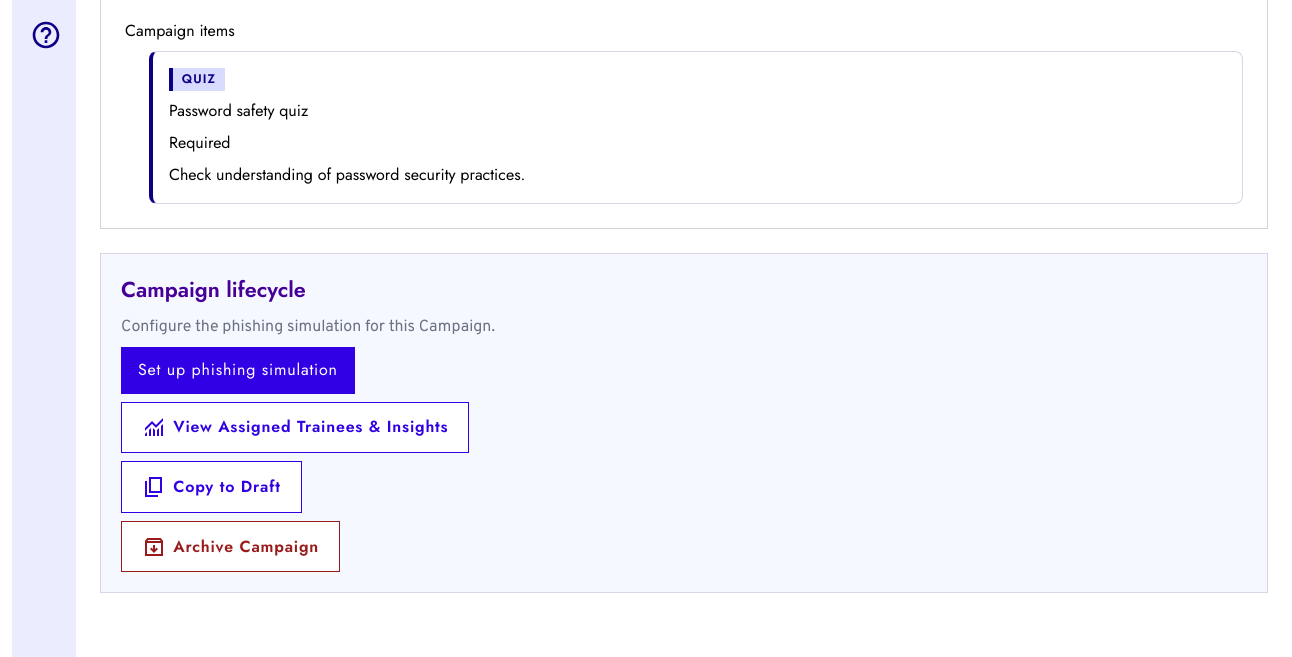
CampaignManagementDetailPage activation › shows no-cohort percentage values as em dashes rather than zero scores
This screenshot has width=1292, height=657.
(page scrolled)
Click the button "View Assigned Trainees & Insights" at (295,427), box [121,402,469,453]
(page scrolled)
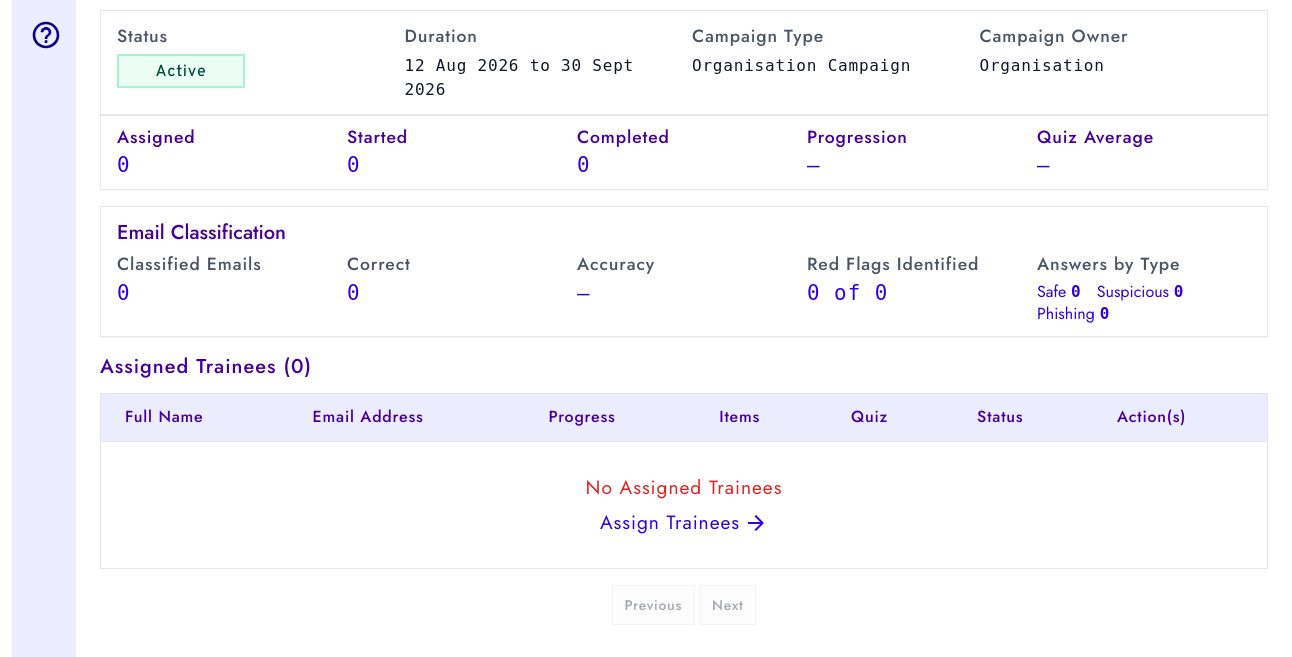
Now the text "0" is shown 3 times, box [117,153,131,177]; [347,153,361,177]; [577,153,591,177]
Now the text "—" is shown 2 times, box [807,153,821,177]; [1037,153,1051,177]
Now the text "No Assigned Trainees" is shown, box [586,474,782,501]
